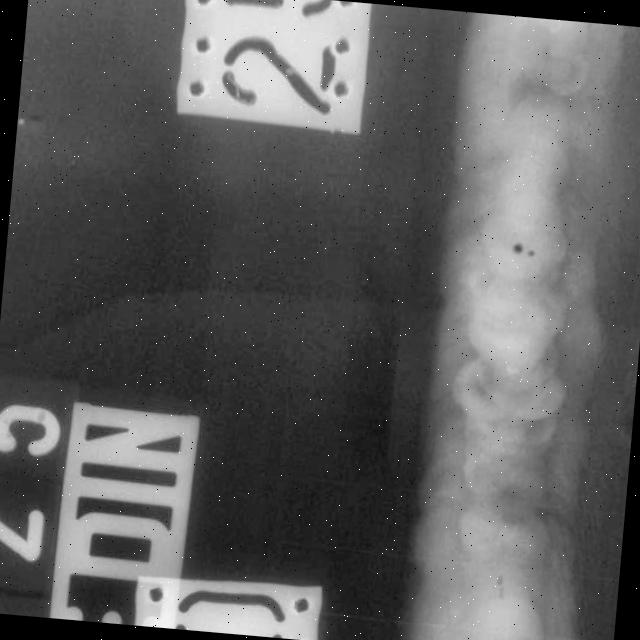Pore: (505, 228, 540, 278), (481, 564, 516, 612)
